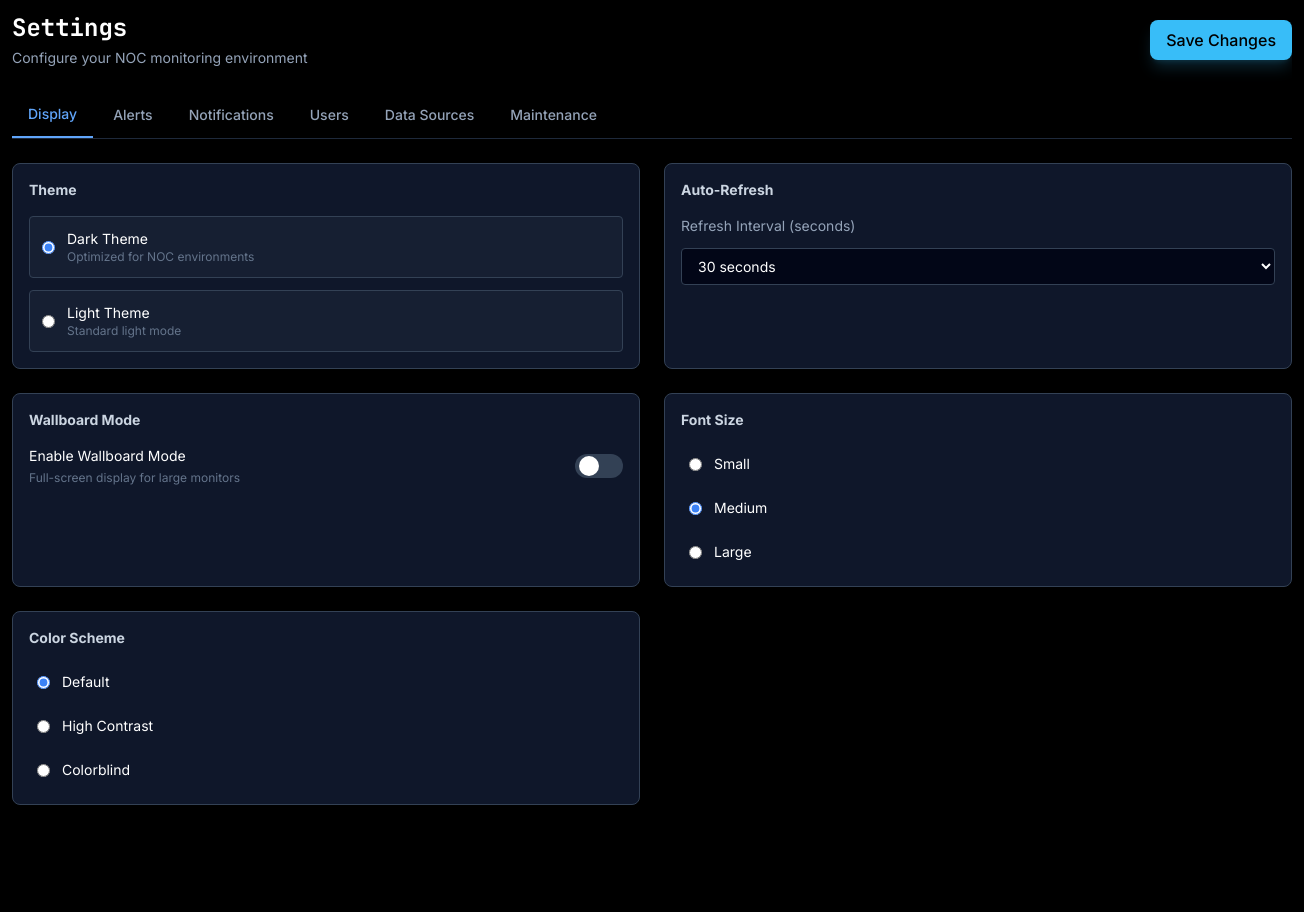
Test: SettingsPage › switches to Notifications tab when clicked
The image size is (1304, 912).
Click the button "Notifications": (231, 115) [173,92,290,138]
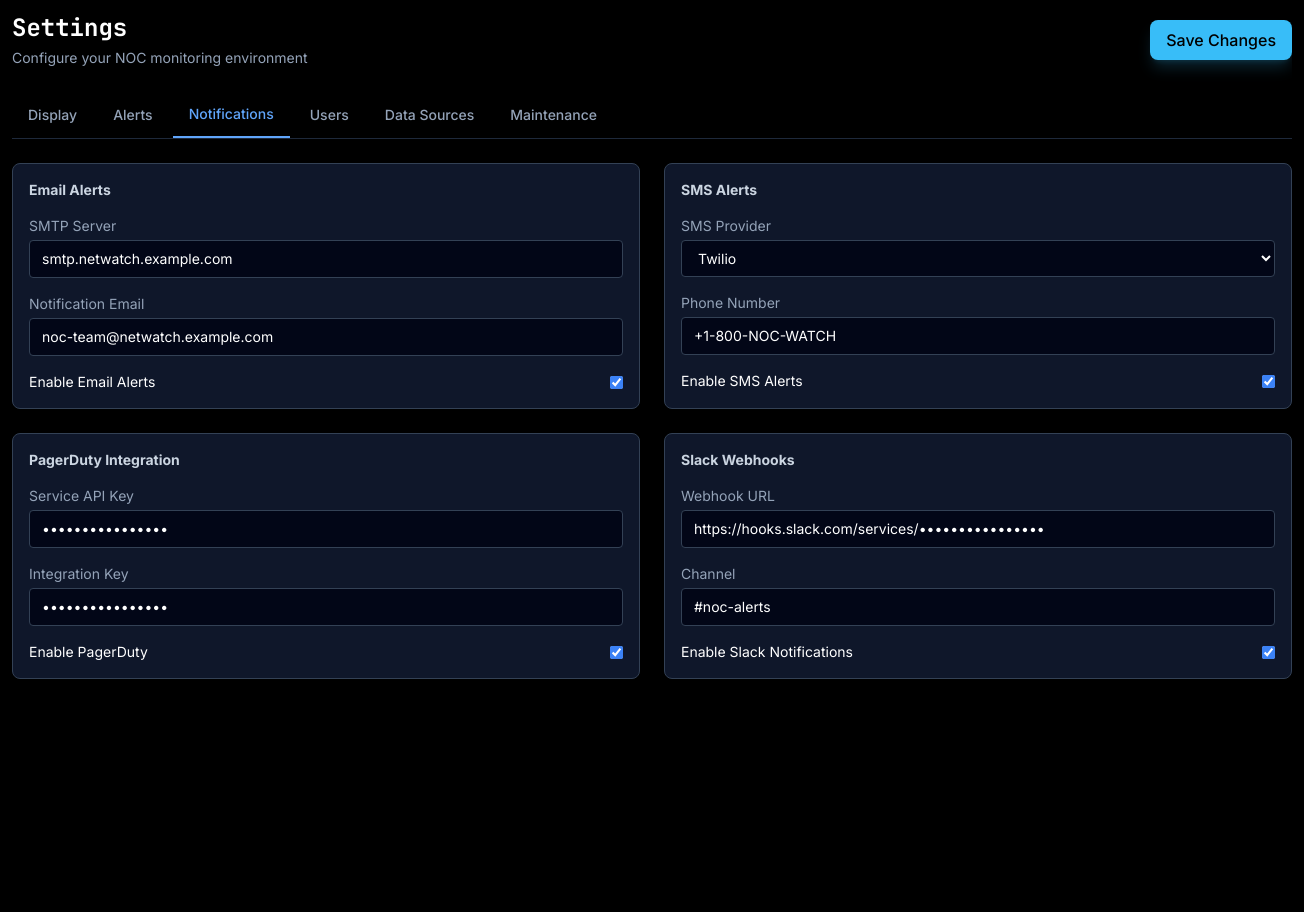
Now the heading "Email Alerts" is shown, box [29,181,111,198]
Now the heading "SMS Alerts" is shown, box [681,181,757,198]
Now the heading "PagerDuty Integration" is shown, box [29,451,180,468]
